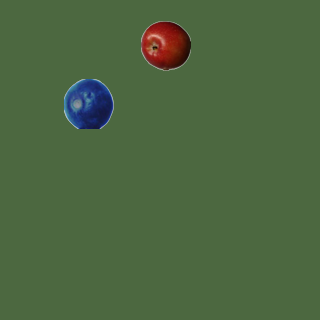Apple Braeburn: (140, 20, 190, 70)
Huckleberry: (63, 78, 113, 128)
